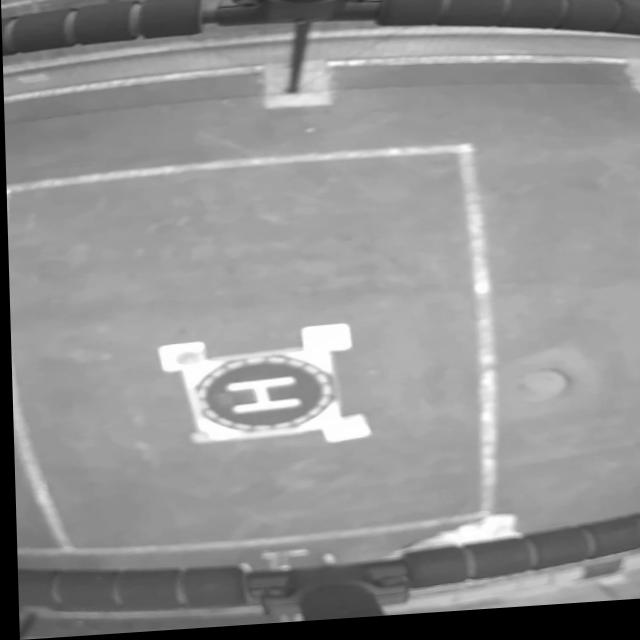Helipad: (223, 380, 297, 417)
